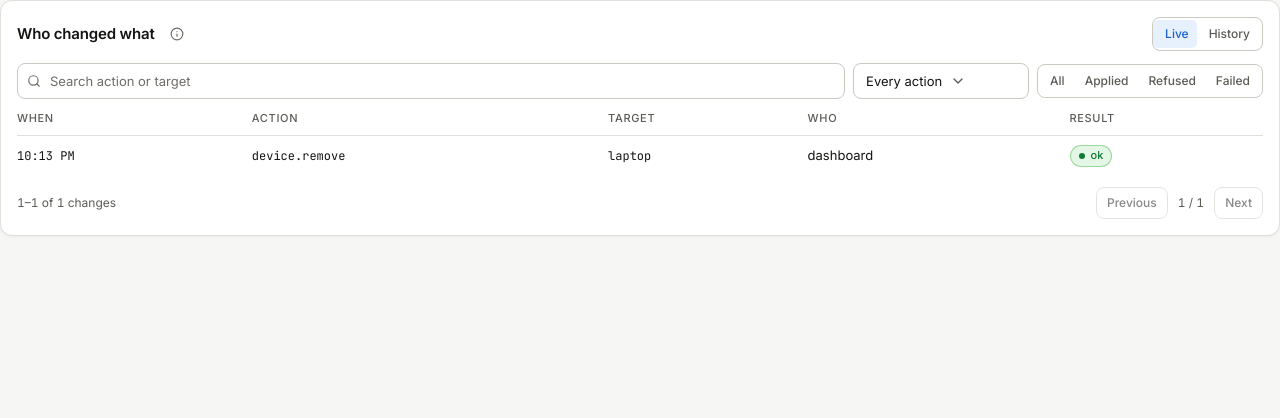
Scenario: Audit › opens a row to the address and request id behind it
What coordinates should you click on to do the following:
click the text "device.remove"
I would click on:
 (299, 156)
Its box is left=252, top=148, right=345, bottom=164.
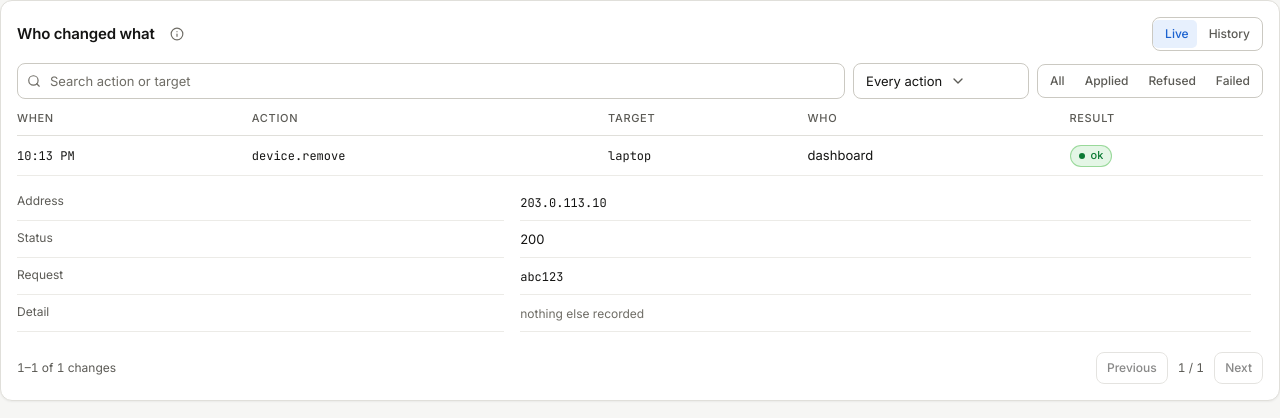
Now the text "203.0.113.10" is shown, box left=520, top=195, right=607, bottom=211
Now the text "abc123" is shown, box left=520, top=269, right=563, bottom=285
